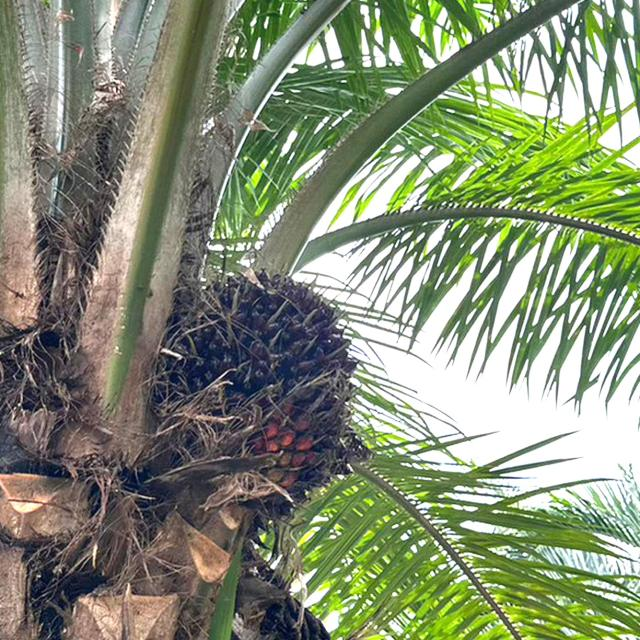ripe: (128, 252, 377, 519)
